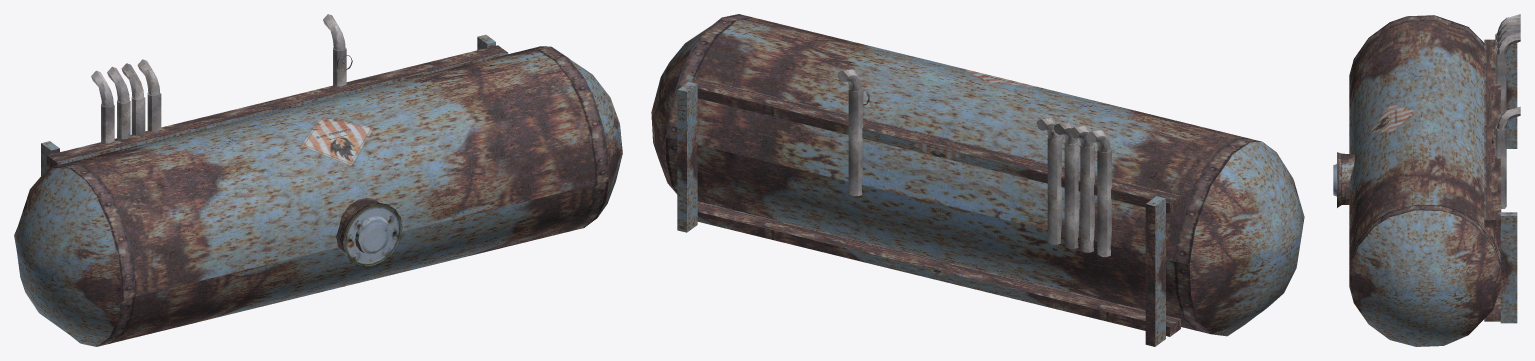
File: oeltank_LOD1.fbx
The picture shows the model from 3 angles, left to right: view 1: azimuth 30°, elevation 25°; view 2: azimuth 150°, elevation 25°; view 3: azimuth 270°, elevation 25°; orthographic projection. The views are drawn at different scales.
Parts seen in each view (by area): view 1: MDL-Objec1; view 2: MDL-Objec1; view 3: MDL-Objec1.
Part boxes in pixels (left/top/right/bottom): MDL-Objec1: left=14, top=14, right=622, bottom=346; MDL-Objec1: left=651, top=14, right=1304, bottom=346; MDL-Objec1: left=1333, top=14, right=1520, bottom=346.
Bounding box in the file's own units: 10.97 × 3.74 × 3.74.
